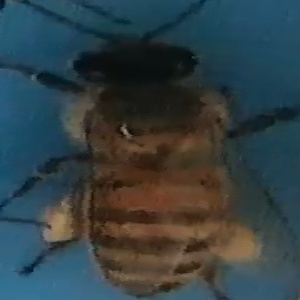bee: (2, 1, 285, 300)
